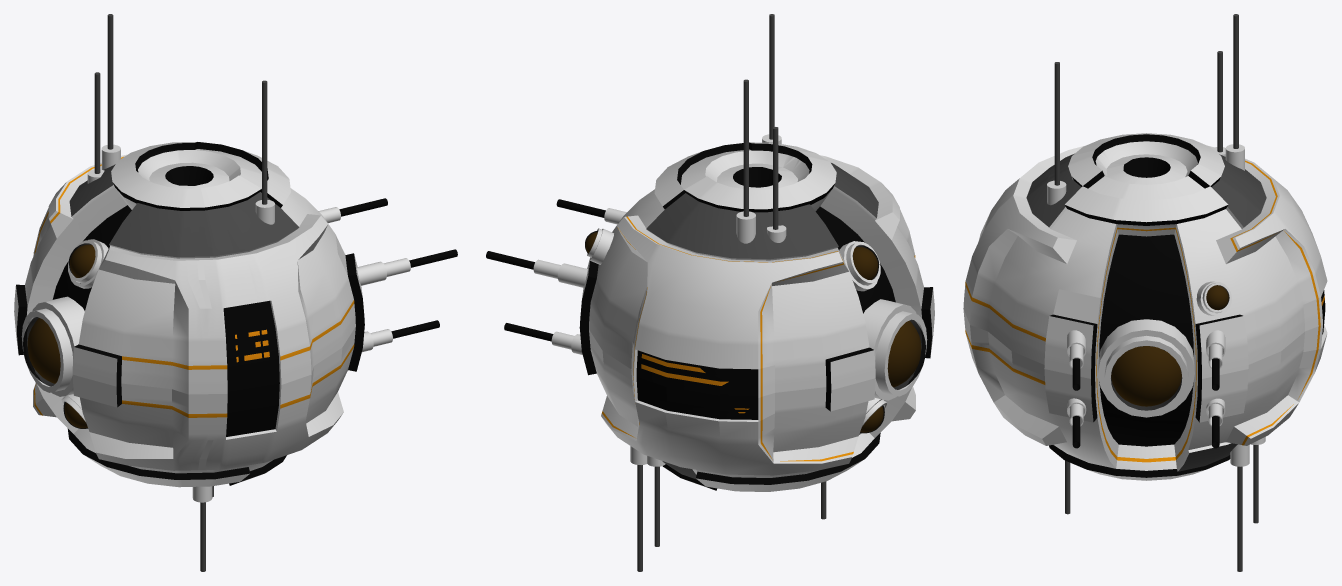
File: HiveDrone.fbx
3 views of the same model, side by side, from view 1: azimuth 30°, elevation 25°; view 2: azimuth 150°, elevation 25°; view 3: azimuth 270°, elevation 25° (orthographic).
Parts seen in each view (by area): view 1: pSphere1, pSphere8, pPipe5, pSphere4, pPipe6, pCylinder2, pCylinder5, pSphere9, pCylinder4, pSphere6, pPipe11; view 2: pSphere1, pSphere8, pPipe5, pSphere4, pPipe6, pCylinder2, pCylinder5, pSphere9, pCylinder7, pCylinder4, pSphere6, pCylinder1 (+1 smaller); view 3: pSphere1, pSphere2, pSphere7, pPipe1, pPipe2, pCylinder2, pCylinder5, pCylinder7, pCylinder4, pSphere11, pCylinder8.
Boxes of the visible parts, x1,y1,x2,y2 form: pSphere1: (14,142,364,487); pSphere8: (23,317,60,386); pPipe5: (21,308,72,392); pSphere4: (28,318,59,382); pPipe6: (32,296,84,396); pCylinder2: (107,14,113,149); pCylinder5: (262,80,267,204); pSphere9: (69,243,95,277); pCylinder4: (94,72,100,173); pSphere6: (70,245,94,277); pPipe11: (357,261,386,285); pSphere1: (579,142,934,491); pSphere8: (887,319,925,389); pPipe5: (875,311,927,396); pSphere4: (888,321,920,386); pPipe6: (863,299,916,400); pCylinder2: (743,79,748,216); pCylinder5: (769,14,774,139); pSphere9: (852,245,879,279); pCylinder7: (637,465,642,571); pCylinder4: (773,127,778,229); pSphere6: (853,247,877,279); pCylinder1: (736,211,755,243); pSphere1: (963,133,1327,480); pSphere2: (1111,346,1182,410); pSphere7: (1112,346,1181,405); pPipe1: (1098,319,1194,417); pPipe2: (1104,335,1188,415); pCylinder2: (1233,14,1238,148); pCylinder5: (1054,62,1059,185); pCylinder7: (1237,466,1242,571); pCylinder4: (1217,51,1222,152); pSphere11: (1206,285,1229,310); pCylinder8: (1253,445,1258,523).
Size of the model in its own units: 8.86 by 10.96 by 7.15.
